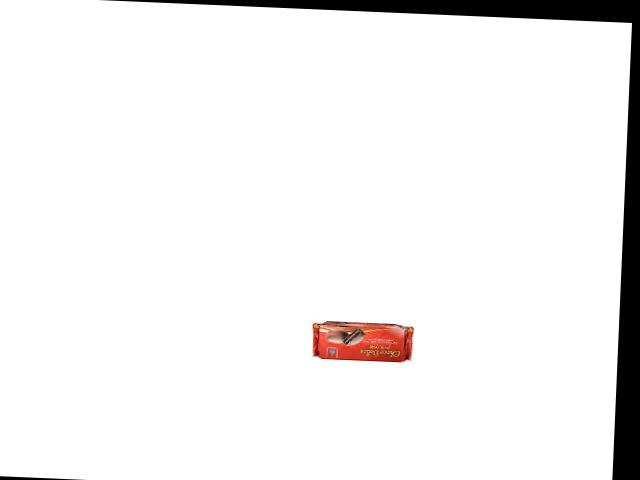chocolate: (309, 311, 415, 363)
